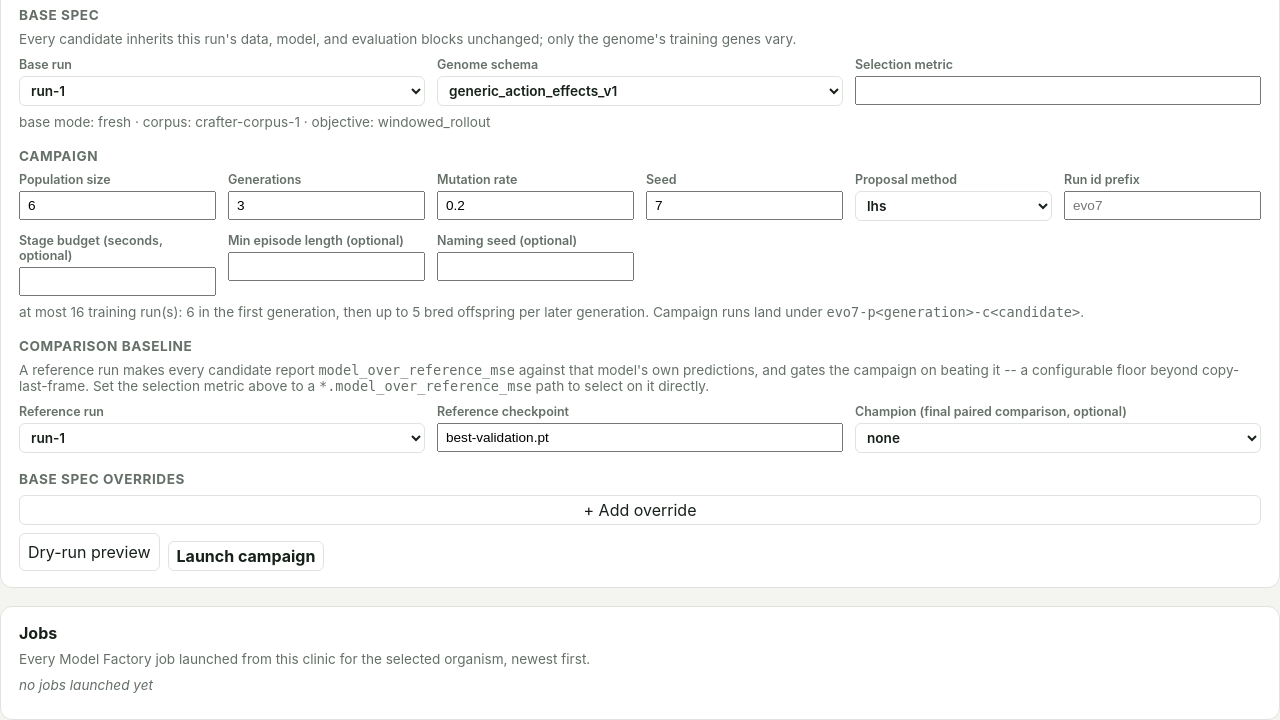
Test case: EvolvePanel › dry-run previews through /api/preview/search and tabulates only the genes that vary
(page scrolled)
Expected: the dropdown labelled "Base run" shows "run-1", 19,76 -> 425,106
Click the button "Dry-run preview": [89, 552] box 19,533 -> 160,571
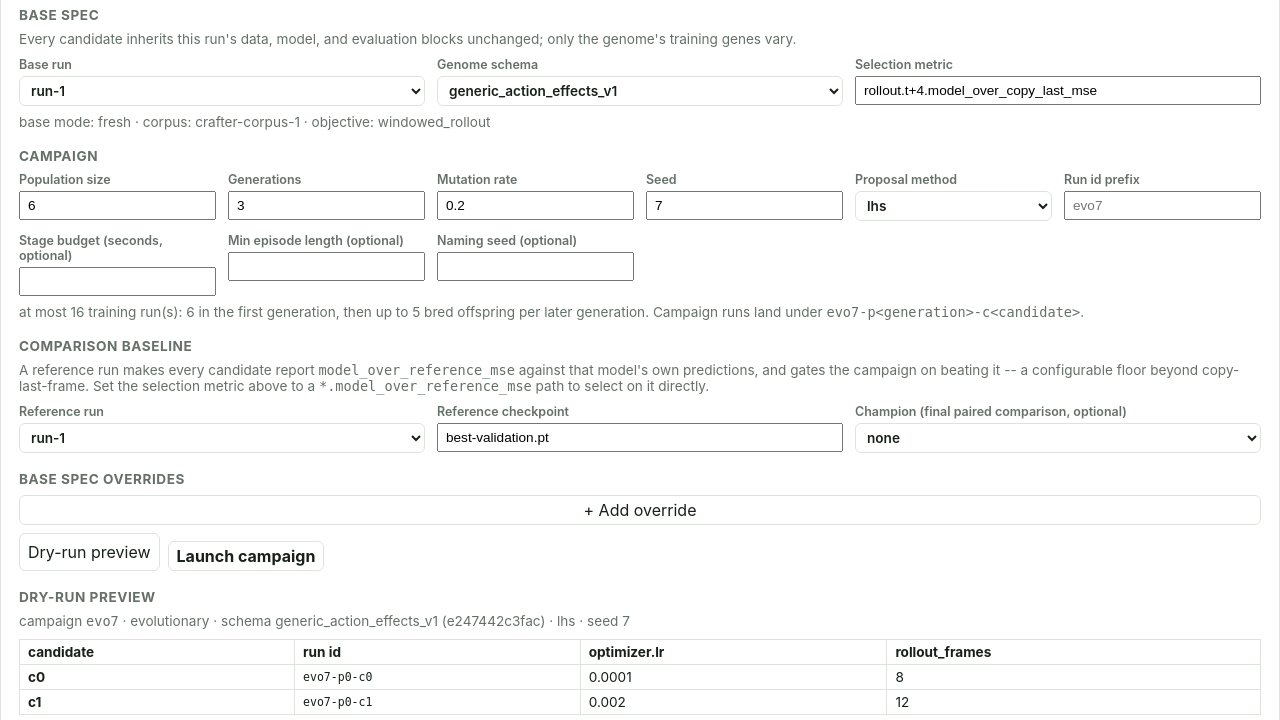
Now the text "evo7" is shown, box 86,613 -> 119,629
Now the text "evo7-p0-c1" is shown, box 295,690 -> 580,714
Now the column heading "optimizer.lr" is shown, box 580,640 -> 887,664
